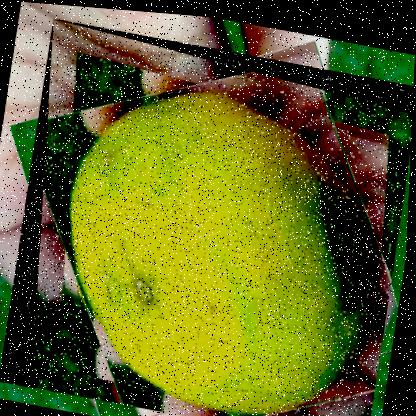orange: (0, 13, 415, 415)
